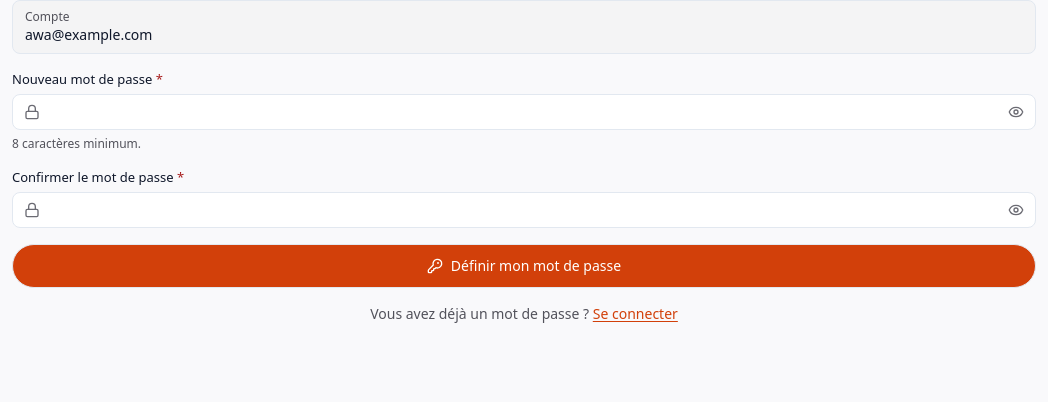
Test: first access by e-mail link › checks the confirmation before sending and shows a server refusal
In the password field labelled "Nouveau mot de passe *": coordinates (524, 112) [12,94,1036,130], type "motdepasse1"
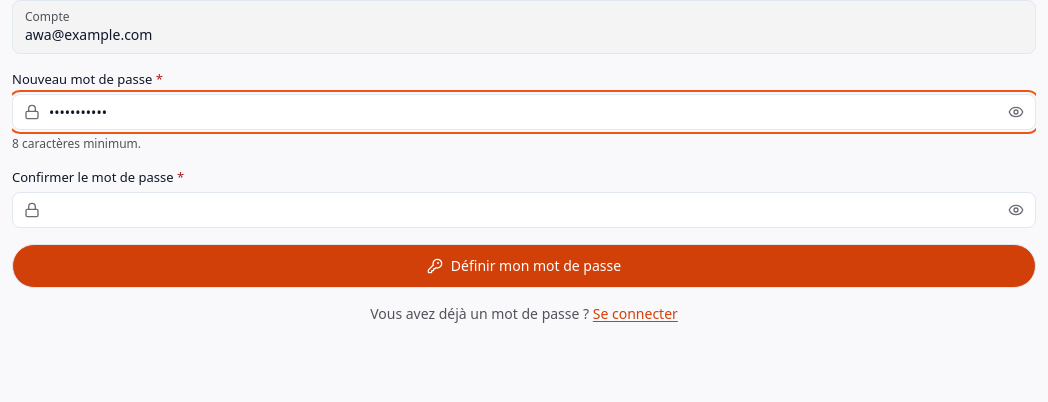
In the password field labelled "Confirmer le mot de passe *": coordinates (524, 210) [12,192,1036,228], type "autre"
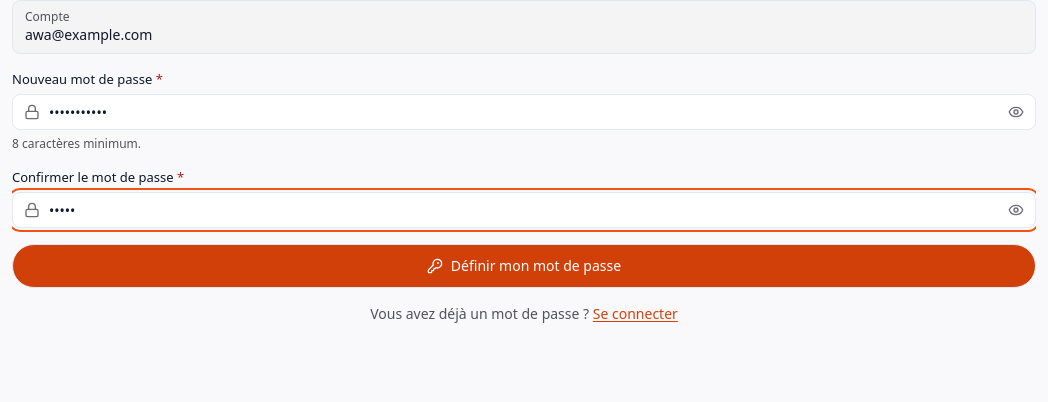
Click the button "Définir mon mot de passe": coordinates (524, 266) [12,244,1036,288]
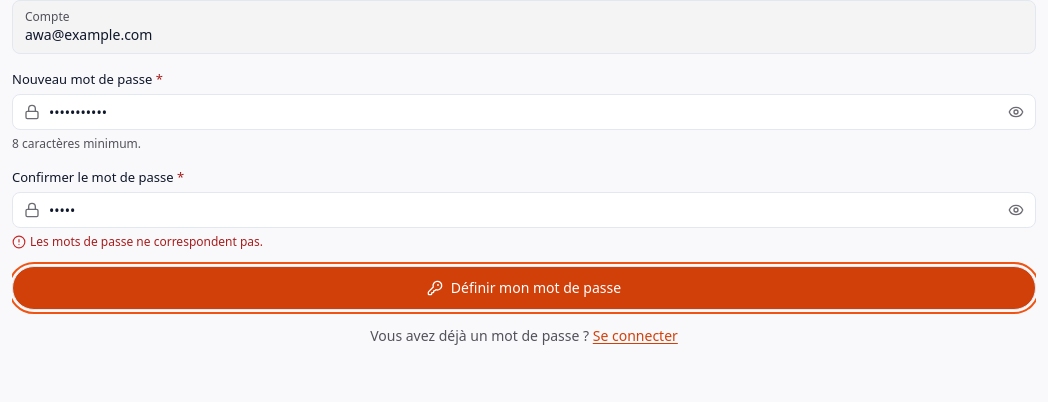
Now the text "Les mots de passe ne correspondent pas." is shown, box [30,234,263,250]
In the password field labelled "Confirmer le mot de passe *": coordinates (524, 210) [12,192,1036,228], type "motdepasse1"
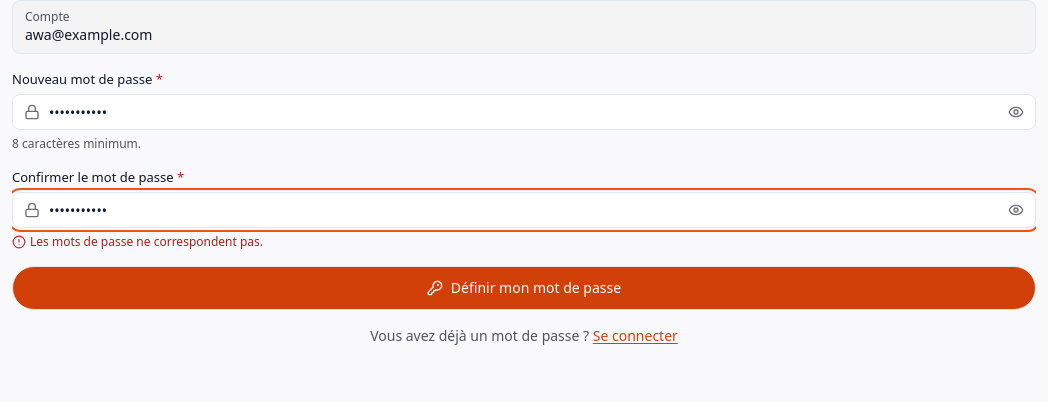
Click the button "Définir mon mot de passe": coordinates (524, 288) [12,266,1036,310]
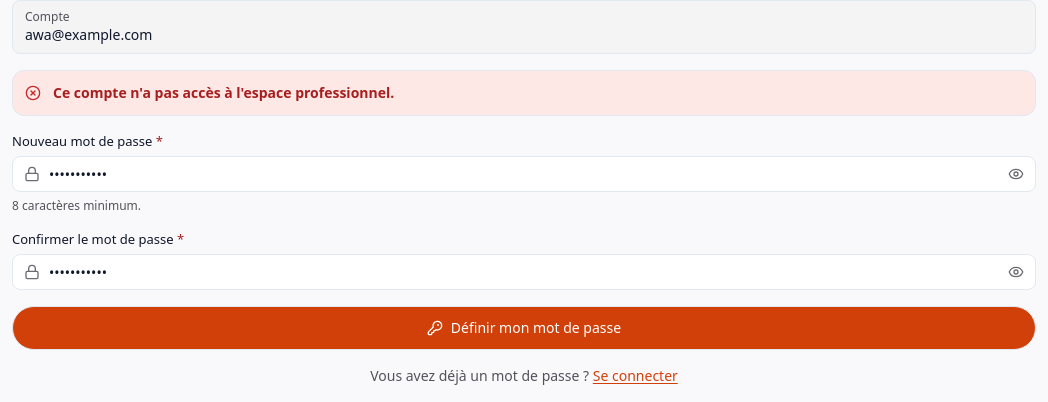
Now the text "Ce compte n'a pas accès à l'espace professionnel." is shown, box [53,83,394,102]
